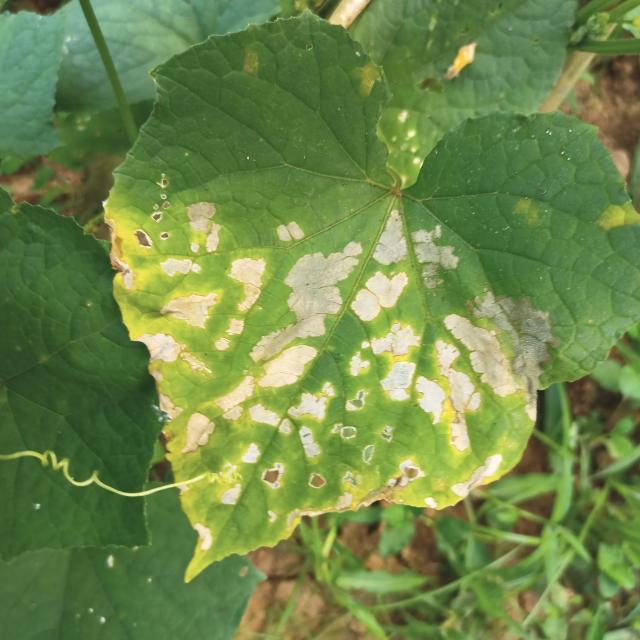disease_cucumber: (90, 210, 553, 544), (585, 192, 640, 242)
